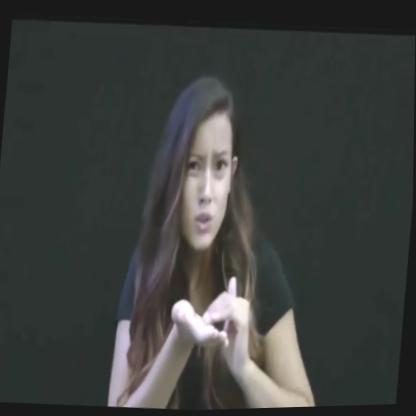ExcuseMe: (154, 264, 263, 390)
